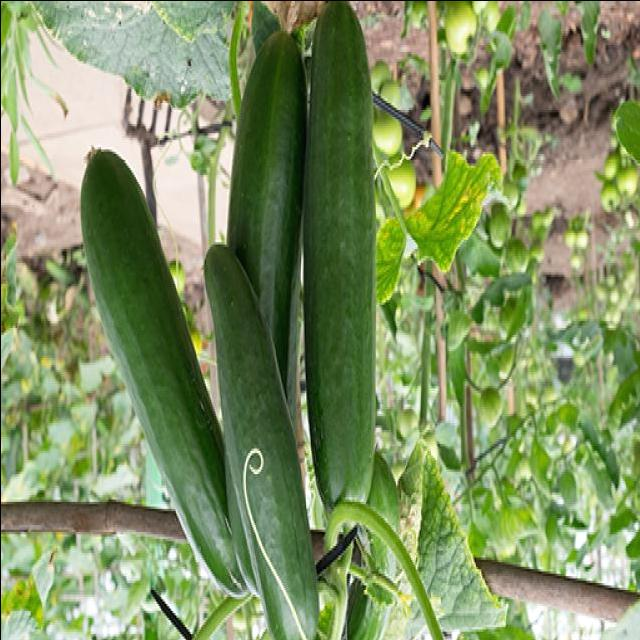cucumber: (74, 145, 249, 601), (203, 241, 316, 640), (303, 5, 381, 535), (227, 24, 307, 444)
